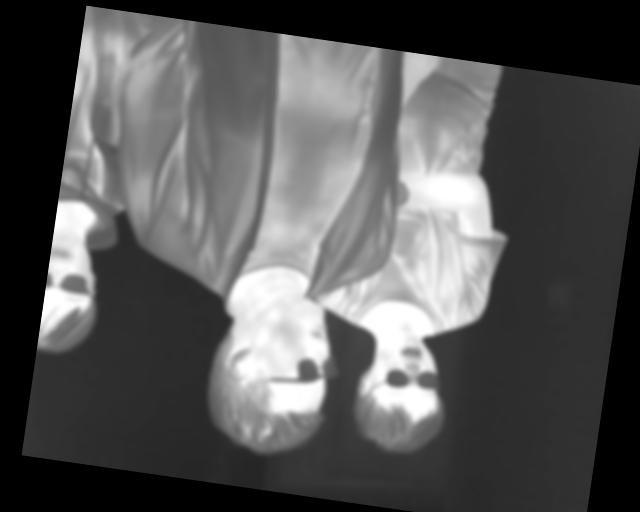face: (196, 285, 341, 464), (348, 327, 453, 461), (37, 233, 107, 360)
